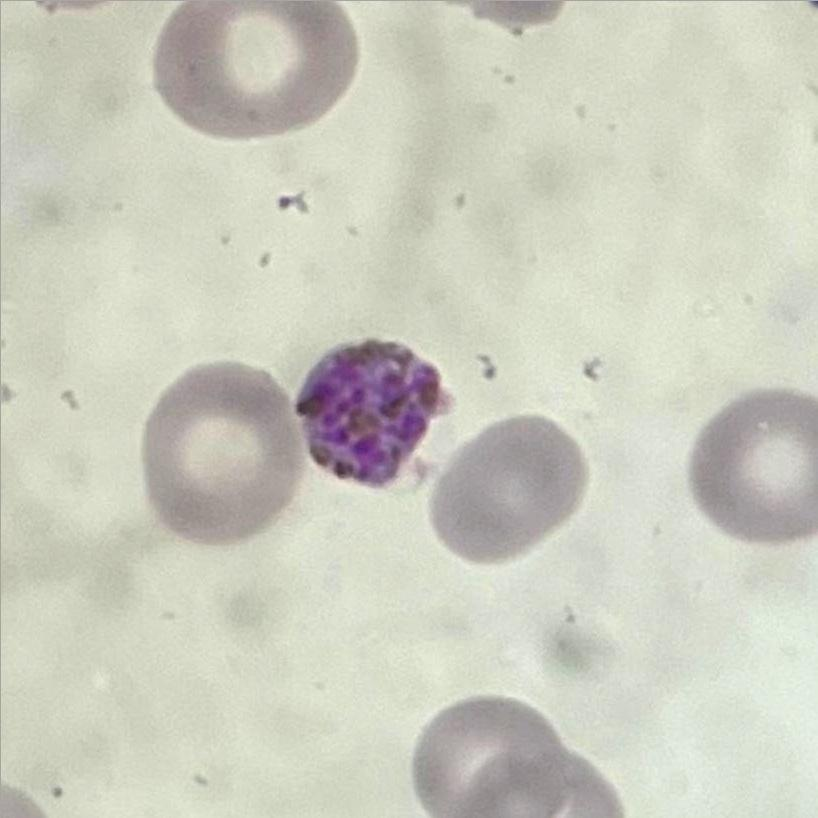Infected: (293, 337, 461, 491)
Uninfected: (150, 0, 359, 145), (147, 357, 299, 543), (425, 412, 591, 563), (683, 384, 818, 543), (412, 694, 564, 818)
